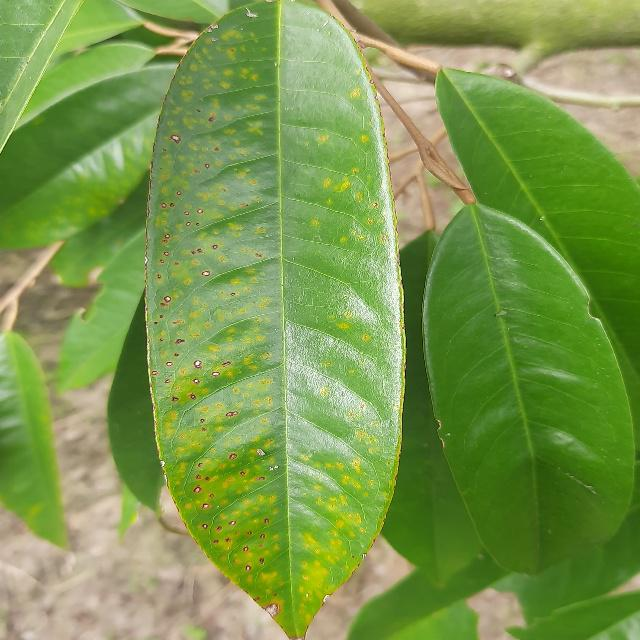Leaf Spot: (131, 0, 426, 639)
